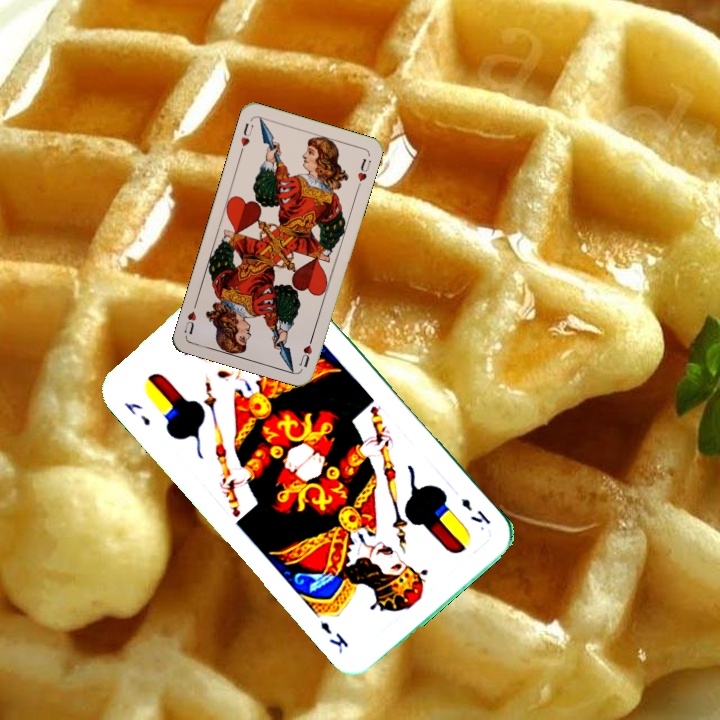EK: (456, 494, 493, 527), (120, 398, 153, 429)
HU: (295, 332, 316, 370), (236, 119, 256, 156)
